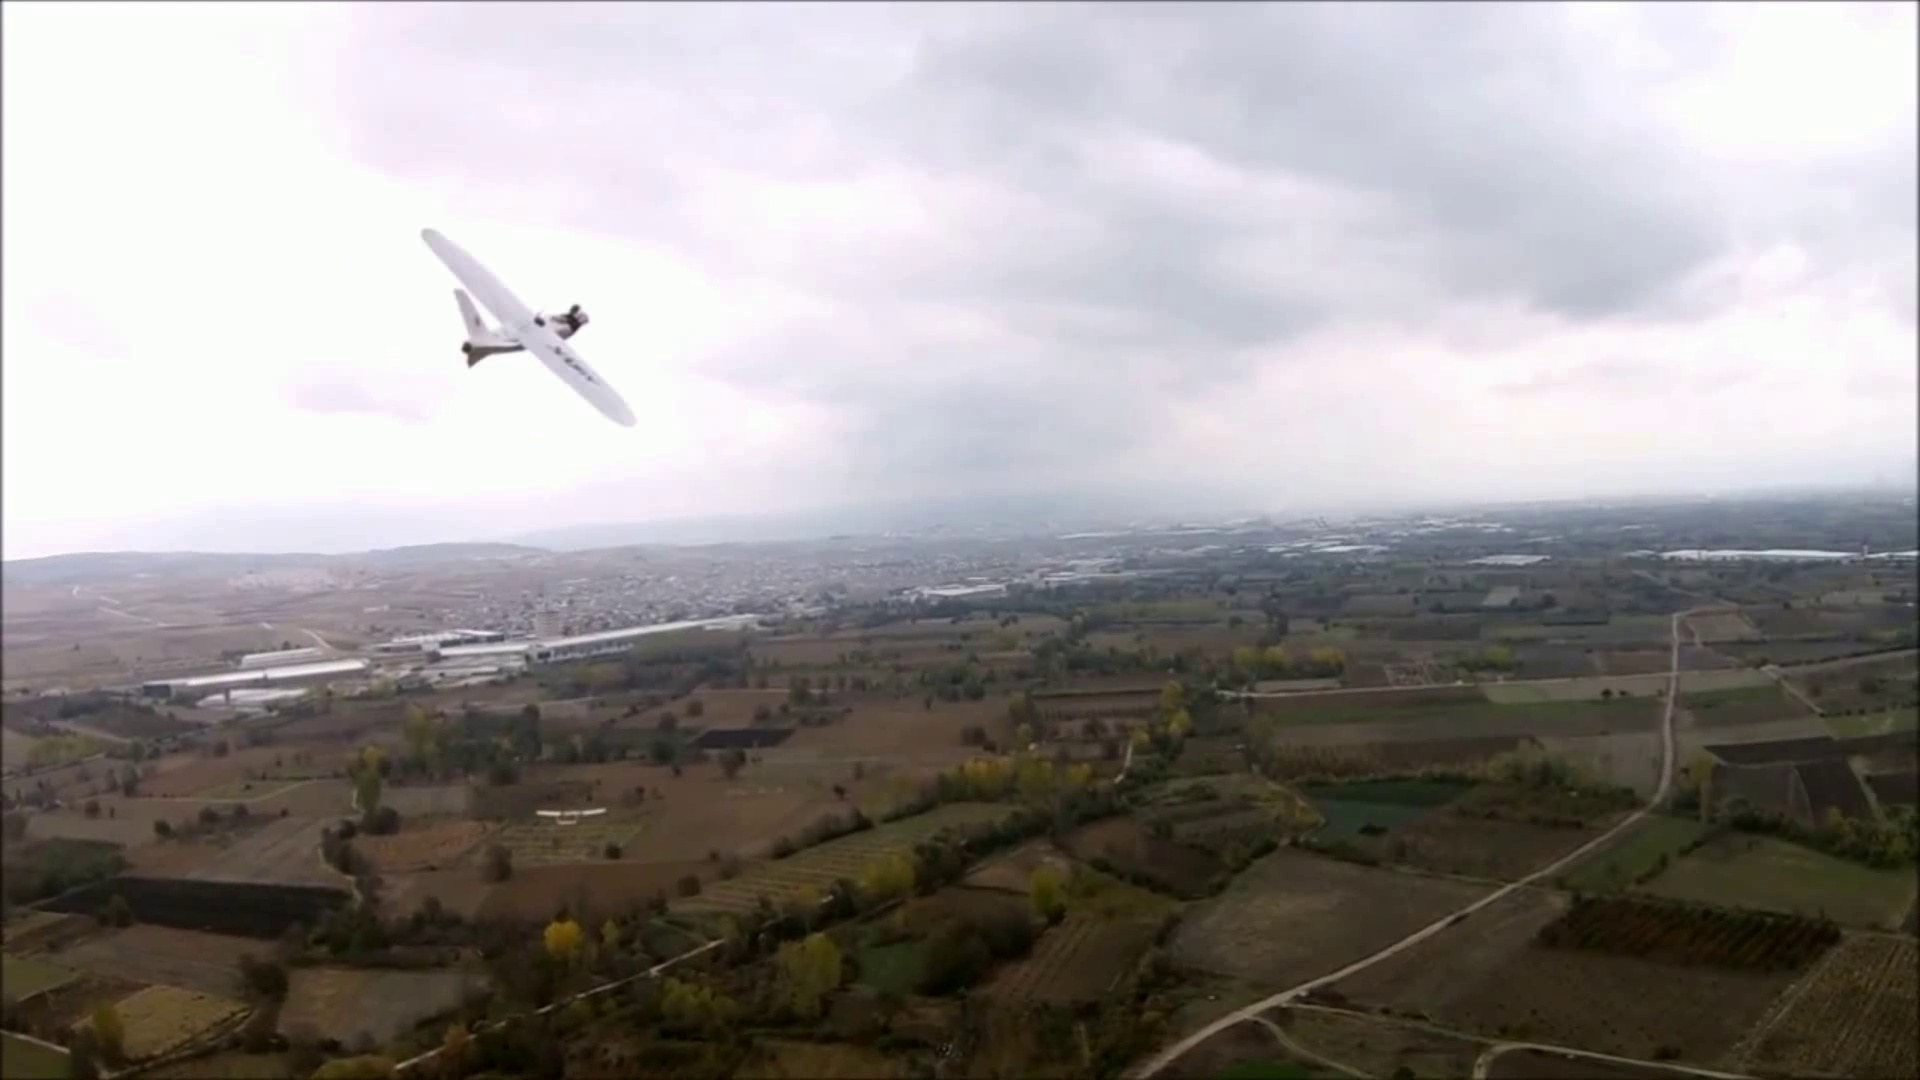airplane: (418, 226, 638, 427)
